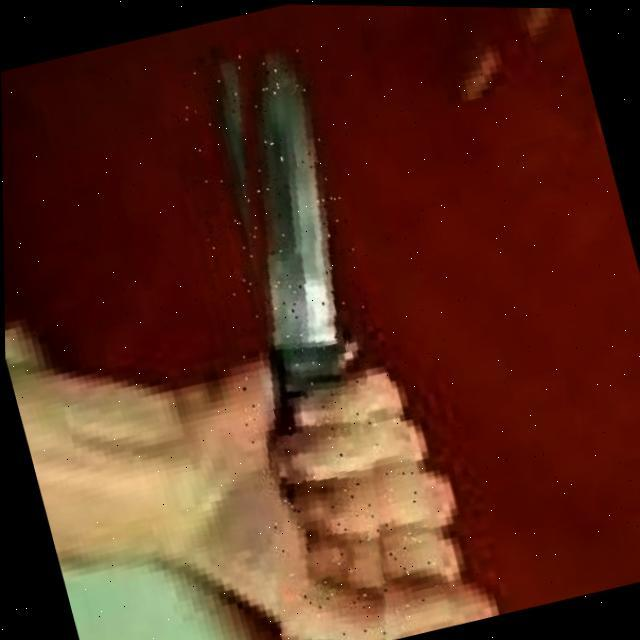knife: (152, 38, 454, 640)
